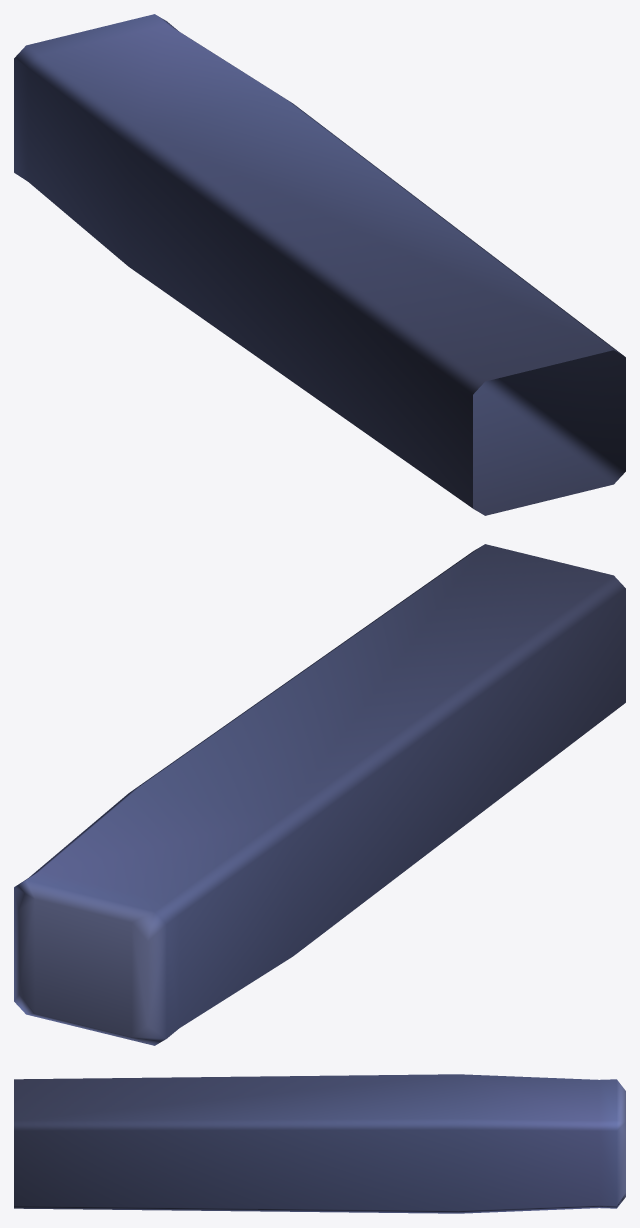
File: Mountain_Cliff_01.fbx
3 renders of one model, top to bottom at view 1: azimuth 30°, elevation 25°; view 2: azimuth 150°, elevation 25°; view 3: azimuth 270°, elevation 25°, orthographic. The views are drawn at different scales.
Visible parts, largest first — view 1: Mountain_Cliff_01; view 2: Mountain_Cliff_01; view 3: Mountain_Cliff_01.
Boxes of the visible parts, box(x1,y1,x2,y2) form: Mountain_Cliff_01: box(14, 14, 625, 515); Mountain_Cliff_01: box(14, 544, 625, 1045); Mountain_Cliff_01: box(14, 1074, 625, 1213).
Bounding box in the file's own units: 545 × 458 × 2672.
